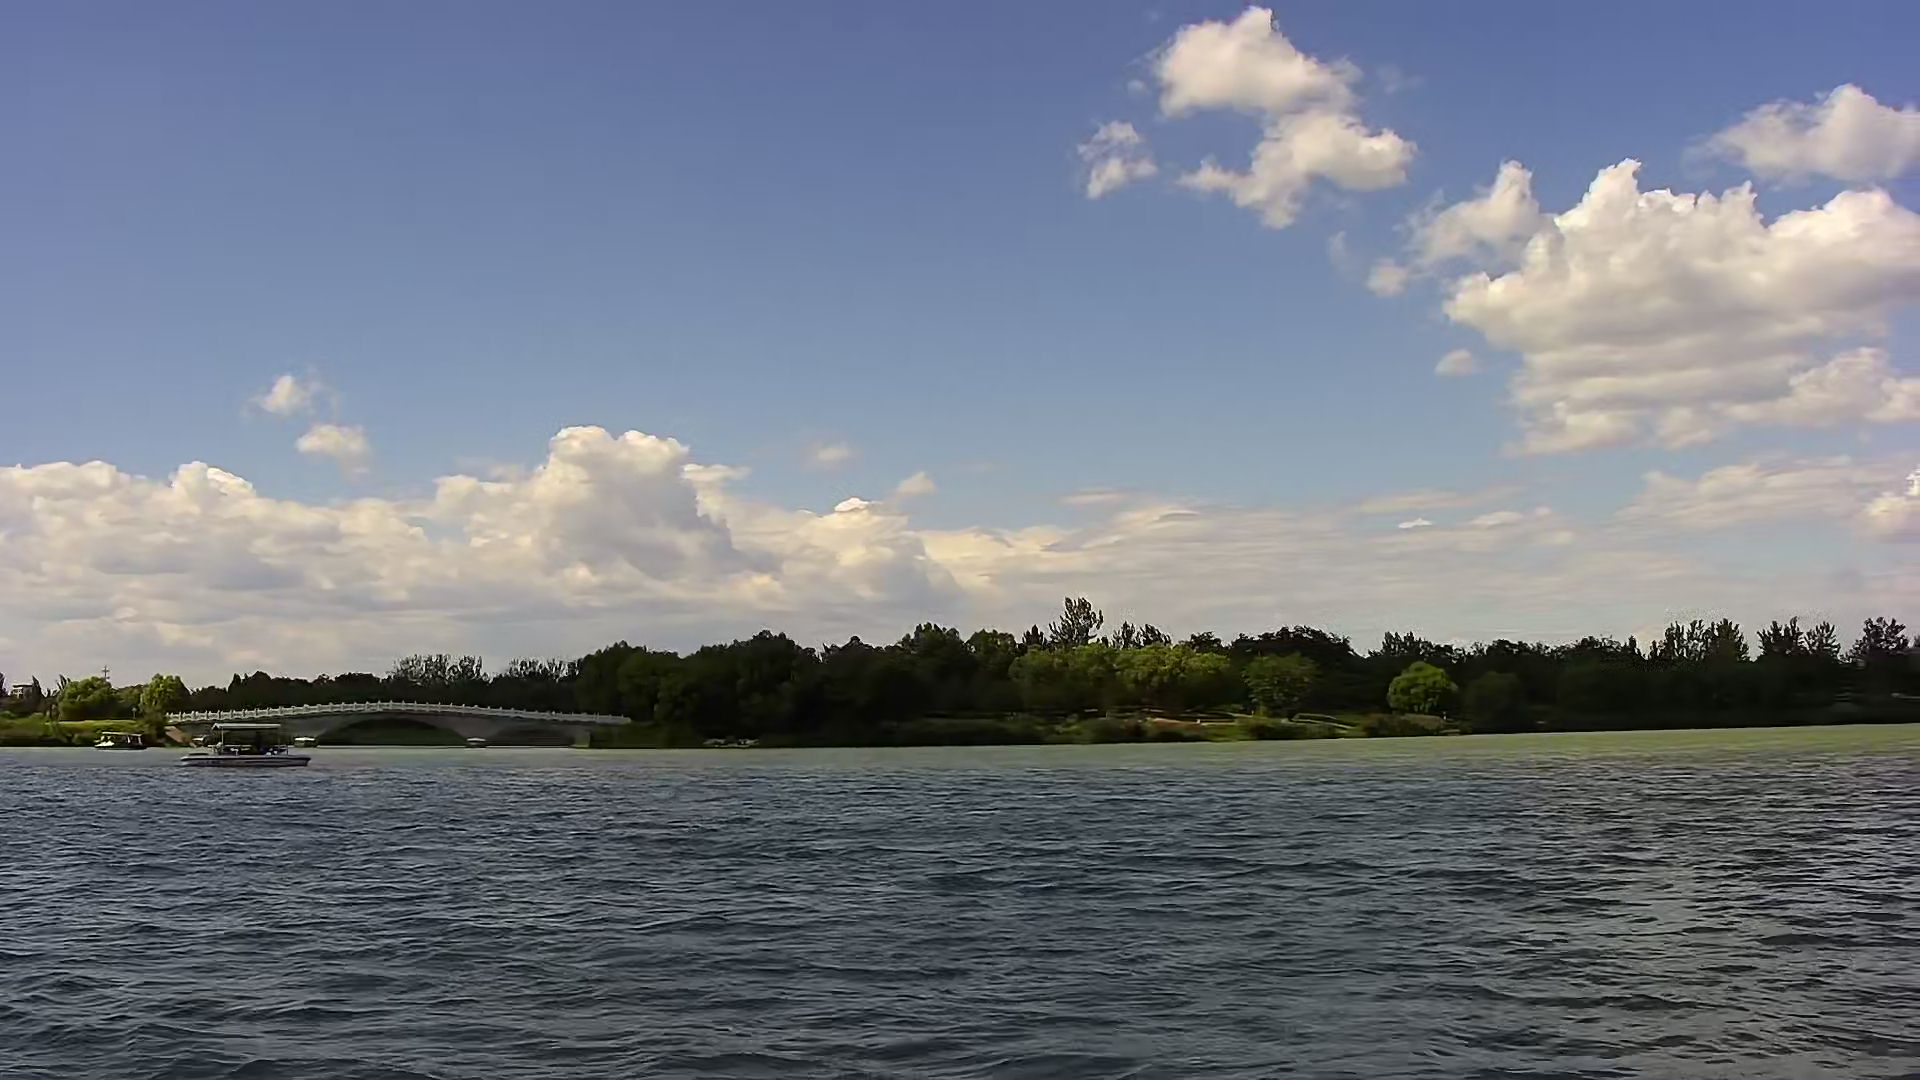bridge: (193, 694, 638, 756), (179, 719, 315, 774)
